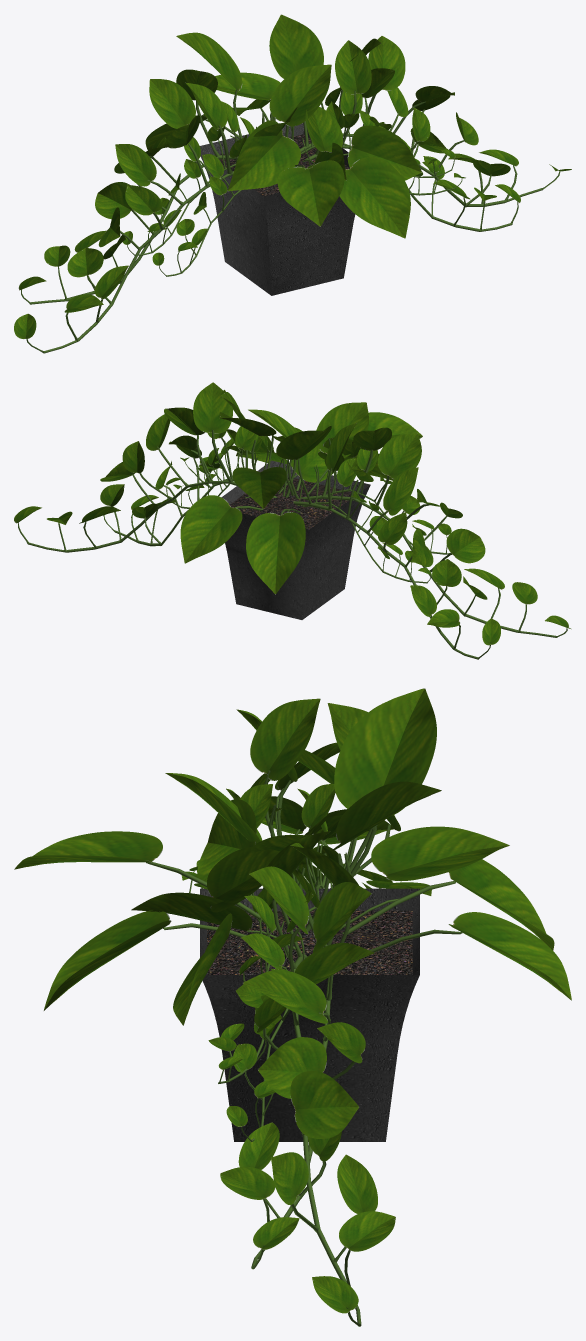
File: 3D_Plant_003_by_drc3D.obj
3 renders of one model, top to bottom at view 1: azimuth 30°, elevation 25°; view 2: azimuth 150°, elevation 25°; view 3: azimuth 270°, elevation 25°, orthographic. The views are drawn at different scales.
Visible parts, largest first — view 1: Mesh1 Pot_Half_03_1 Planter_Box_01_1 G_3D_Plant_003_1 Model, Mesh2 Pot_Half_03_2 Planter_Box_01_1 G_3D_Plant_003_1 Model, Mesh442 Leaf_Half_003_2_295 Leaf__003_74 G_3D_Plant_003_1 Model, Mesh468 Leaf_Half_003_2_321 Leaf__003_81 G_3D_Plant_003_1 Model, Mesh466 Leaf_Half_003_2_319 Leaf__003_80 G_3D_Plant_003_1 Model, Mesh440 Leaf_Half_003_2_293 Leaf__003_74 G_3D_Plant_003_1 Model, Mesh460 Leaf_Half_003_2_313 Leaf__003_79 G_3D_Plant_003_1 Model, Mesh436 Leaf_Half_003_2_289 Leaf__003_73 G_3D_Plant_003_1 Model, Mesh438 Leaf_Half_003_2_291 Leaf__003_73 G_3D_Plant_003_1 Model, Mesh452 Leaf_Half_003_2_305 Leaf__003_77 G_3D_Plant_003_1 Model, Mesh448 Leaf_Half_003_2_301 Leaf__003_76 G_3D_Plant_003_1 Model, Mesh470 Leaf_Half_003_2_323 Leaf__003_81 G_3D_Plant_003_1 Model (+19 smaller); view 2: Mesh2 Pot_Half_03_2 Planter_Box_01_1 G_3D_Plant_003_1 Model, Mesh3 Dirt_003_1 Planter_Box_01_1 G_3D_Plant_003_1 Model, Mesh478 Leaf_Half_003_2_331 Leaf__003_83 G_3D_Plant_003_1 Model, Mesh482 Leaf_Half_003_2_335 Leaf__003_84 G_3D_Plant_003_1 Model, Mesh476 Leaf_Half_003_2_329 Leaf__003_83 G_3D_Plant_003_1 Model, Mesh480 Leaf_Half_003_2_333 Leaf__003_84 G_3D_Plant_003_1 Model, Mesh458 Leaf_Half_003_2_311 Leaf__003_78 G_3D_Plant_003_1 Model, Mesh213 Leaf_Half_003_2_139 Leaf__003_35 Stem_03_4 G_3D_Plant_00, Mesh452 Leaf_Half_003_2_305 Leaf__003_77 G_3D_Plant_003_1 Model, Mesh484 Leaf_Half_003_2_337 Leaf__003_85 G_3D_Plant_003_1 Model, Mesh53 Leaf_Half_003_2_33 Leaf__003_9 Stem_03_1 G_3D_Plant_003_1, Mesh1 Pot_Half_03_1 Planter_Box_01_1 G_3D_Plant_003_1 Model (+18 smaller); view 3: Mesh1 Pot_Half_03_1 Planter_Box_01_1 G_3D_Plant_003_1 Model, Mesh3 Dirt_003_1 Planter_Box_01_1 G_3D_Plant_003_1 Model, Mesh454 Leaf_Half_003_2_307 Leaf__003_77 G_3D_Plant_003_1 Model, Mesh486 Leaf_Half_003_2_339 Leaf__003_85 G_3D_Plant_003_1 Model, Mesh480 Leaf_Half_003_2_333 Leaf__003_84 G_3D_Plant_003_1 Model, Mesh436 Leaf_Half_003_2_289 Leaf__003_73 G_3D_Plant_003_1 Model, Mesh452 Leaf_Half_003_2_305 Leaf__003_77 G_3D_Plant_003_1 Model, Mesh476 Leaf_Half_003_2_329 Leaf__003_83 G_3D_Plant_003_1 Model, Mesh450 Leaf_Half_003_2_303 Leaf__003_76 G_3D_Plant_003_1 Model, Mesh440 Leaf_Half_003_2_293 Leaf__003_74 G_3D_Plant_003_1 Model, Mesh217 Leaf_Half_003_2_143 Leaf__003_36 Stem_03_4 G_3D_Plant_00, Mesh446 Leaf_Half_003_2_299 Leaf__003_75 G_3D_Plant_003_1 Model (+24 smaller).
Part boxes in pixels (x1,y1,x2,y2): Mesh1 Pot_Half_03_1 Planter_Box_01_1 G_3D_Plant_003_1 Model: (263, 129, 355, 295); Mesh2 Pot_Half_03_2 Planter_Box_01_1 G_3D_Plant_003_1 Model: (199, 123, 303, 295); Mesh442 Leaf_Half_003_2_295 Leaf__003_74 G_3D_Plant_003_1 Model: (350, 156, 410, 238); Mesh468 Leaf_Half_003_2_321 Leaf__003_81 G_3D_Plant_003_1 Model: (228, 136, 300, 191); Mesh466 Leaf_Half_003_2_319 Leaf__003_80 G_3D_Plant_003_1 Model: (351, 125, 421, 171); Mesh440 Leaf_Half_003_2_293 Leaf__003_74 G_3D_Plant_003_1 Model: (339, 169, 404, 238); Mesh460 Leaf_Half_003_2_313 Leaf__003_79 G_3D_Plant_003_1 Model: (269, 64, 330, 121); Mesh436 Leaf_Half_003_2_289 Leaf__003_73 G_3D_Plant_003_1 Model: (277, 166, 320, 226); Mesh438 Leaf_Half_003_2_291 Leaf__003_73 G_3D_Plant_003_1 Model: (309, 160, 344, 226); Mesh452 Leaf_Half_003_2_305 Leaf__003_77 G_3D_Plant_003_1 Model: (176, 32, 242, 91); Mesh448 Leaf_Half_003_2_301 Leaf__003_76 G_3D_Plant_003_1 Model: (281, 14, 323, 70); Mesh470 Leaf_Half_003_2_323 Leaf__003_81 G_3D_Plant_003_1 Model: (227, 120, 282, 190); Mesh2 Pot_Half_03_2 Planter_Box_01_1 G_3D_Plant_003_1 Model: (225, 485, 370, 619); Mesh3 Dirt_003_1 Planter_Box_01_1 G_3D_Plant_003_1 Model: (230, 477, 351, 529); Mesh478 Leaf_Half_003_2_331 Leaf__003_83 G_3D_Plant_003_1 Model: (246, 512, 280, 594); Mesh482 Leaf_Half_003_2_335 Leaf__003_84 G_3D_Plant_003_1 Model: (180, 495, 230, 563); Mesh476 Leaf_Half_003_2_329 Leaf__003_83 G_3D_Plant_003_1 Model: (275, 512, 305, 594); Mesh480 Leaf_Half_003_2_333 Leaf__003_84 G_3D_Plant_003_1 Model: (185, 507, 242, 563); Mesh458 Leaf_Half_003_2_311 Leaf__003_78 G_3D_Plant_003_1 Model: (316, 402, 366, 453); Mesh213 Leaf_Half_003_2_139 Leaf__003_35 Stem_03_4 G_3D_Plant_00: (377, 433, 417, 475); Mesh452 Leaf_Half_003_2_305 Leaf__003_77 G_3D_Plant_003_1 Model: (276, 430, 324, 459); Mesh484 Leaf_Half_003_2_337 Leaf__003_85 G_3D_Plant_003_1 Model: (232, 467, 263, 508); Mesh53 Leaf_Half_003_2_33 Leaf__003_9 Stem_03_1 G_3D_Plant_003_1: (210, 382, 232, 433); Mesh1 Pot_Half_03_1 Planter_Box_01_1 G_3D_Plant_003_1 Model: (221, 460, 370, 588); Mesh1 Pot_Half_03_1 Planter_Box_01_1 G_3D_Plant_003_1 Model: (200, 889, 419, 1141); Mesh3 Dirt_003_1 Planter_Box_01_1 G_3D_Plant_003_1 Model: (207, 910, 412, 974); Mesh454 Leaf_Half_003_2_307 Leaf__003_77 G_3D_Plant_003_1 Model: (334, 688, 424, 808); Mesh486 Leaf_Half_003_2_339 Leaf__003_85 G_3D_Plant_003_1 Model: (371, 826, 509, 874); Mesh480 Leaf_Half_003_2_333 Leaf__003_84 G_3D_Plant_003_1 Model: (453, 912, 571, 1000); Mesh436 Leaf_Half_003_2_289 Leaf__003_73 G_3D_Plant_003_1 Model: (19, 831, 162, 868); Mesh452 Leaf_Half_003_2_305 Leaf__003_77 G_3D_Plant_003_1 Model: (383, 688, 436, 815); Mesh476 Leaf_Half_003_2_329 Leaf__003_83 G_3D_Plant_003_1 Model: (448, 859, 546, 943); Mesh450 Leaf_Half_003_2_303 Leaf__003_76 G_3D_Plant_003_1 Model: (336, 781, 441, 843); Mesh440 Leaf_Half_003_2_293 Leaf__003_74 G_3D_Plant_003_1 Model: (43, 911, 169, 1010); Mesh217 Leaf_Half_003_2_143 Leaf__003_36 Stem_03_4 G_3D_Plant_00: (250, 698, 320, 773); Mesh446 Leaf_Half_003_2_299 Leaf__003_75 G_3D_Plant_003_1 Model: (131, 892, 252, 930).
Bounding box in the file's own units: 39.63 × 14.67 × 20.19.
Materials: 5 (4 with a texture image).
